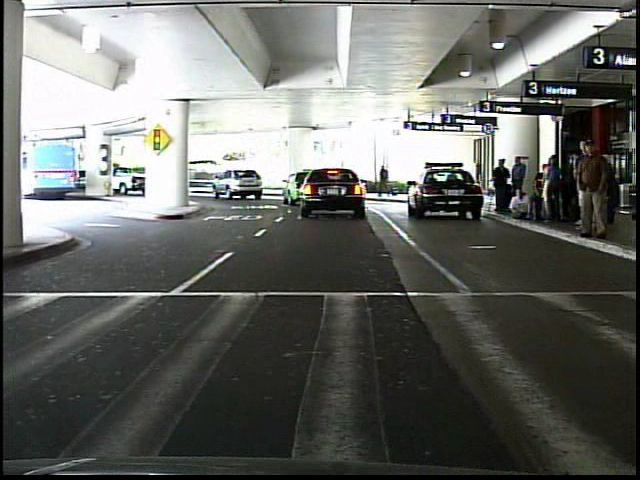person: (574, 135, 613, 243), (489, 157, 511, 214), (507, 153, 530, 194), (377, 163, 392, 198)
